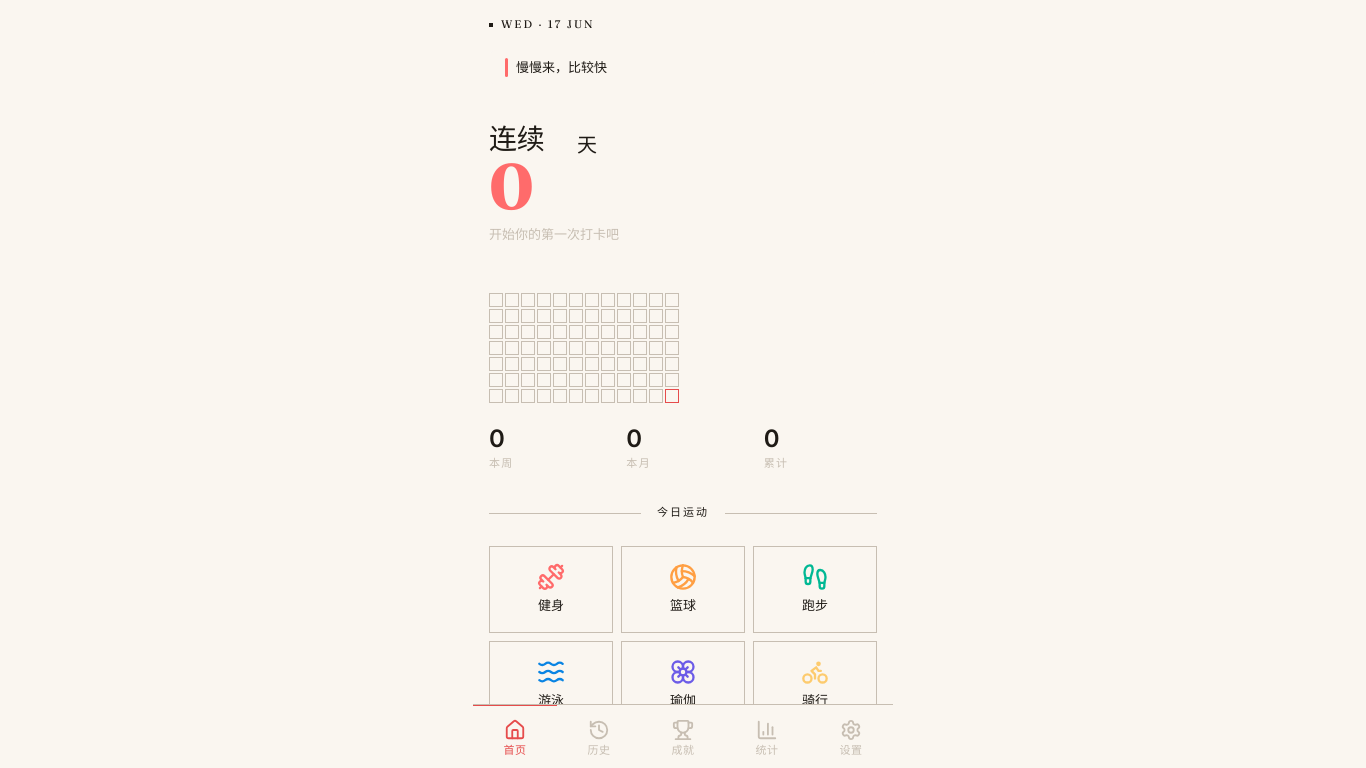
it: 完整打卡流程集成测试 › 打卡后首页数据即时更新（Streak+统计+最近记录同步刷新）
Expected: the text "开始你的第一次打卡吧" is shown, [489,224,619,245]
Step 1. Click the button "健身" → coordinates (551, 589), box [489,546,613,633]
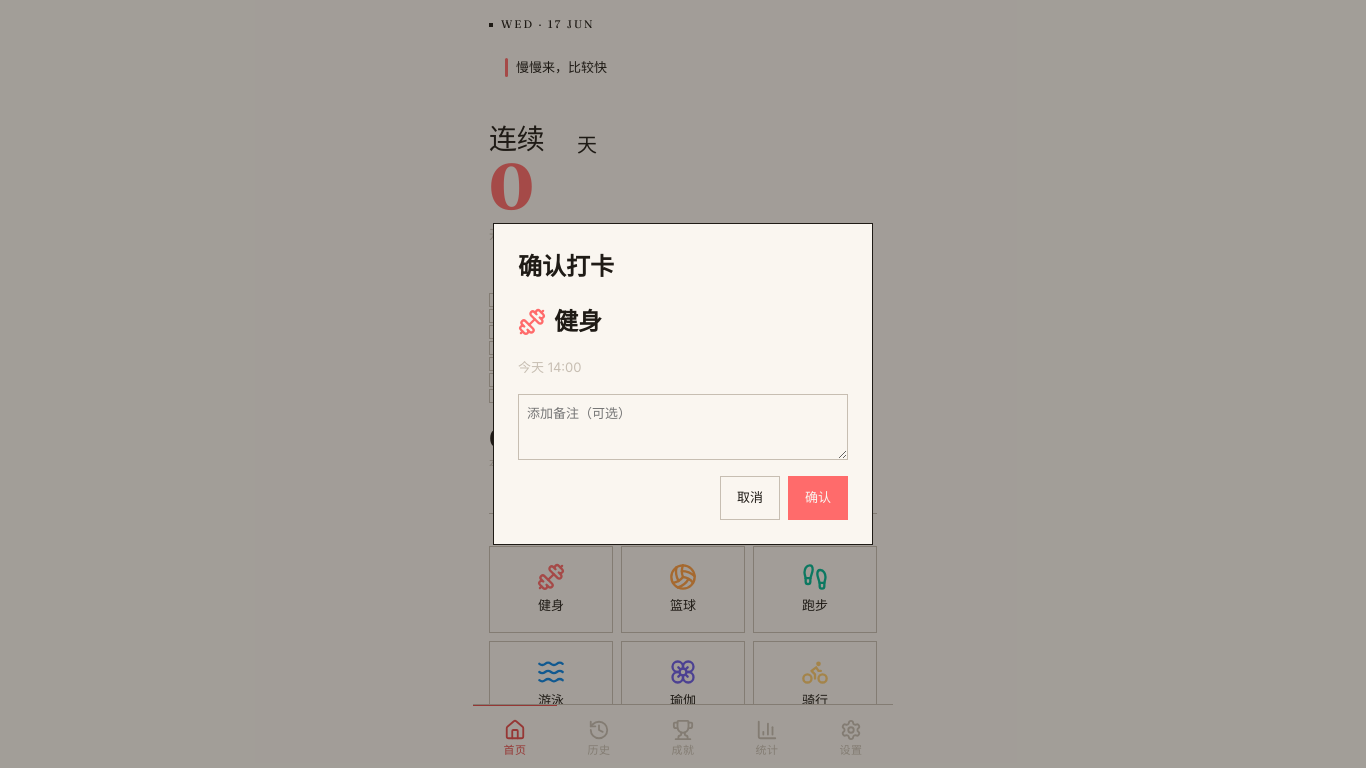
Step 2. Click the button "确认" → coordinates (818, 498), box [788,476,848,520]
(page scrolled)
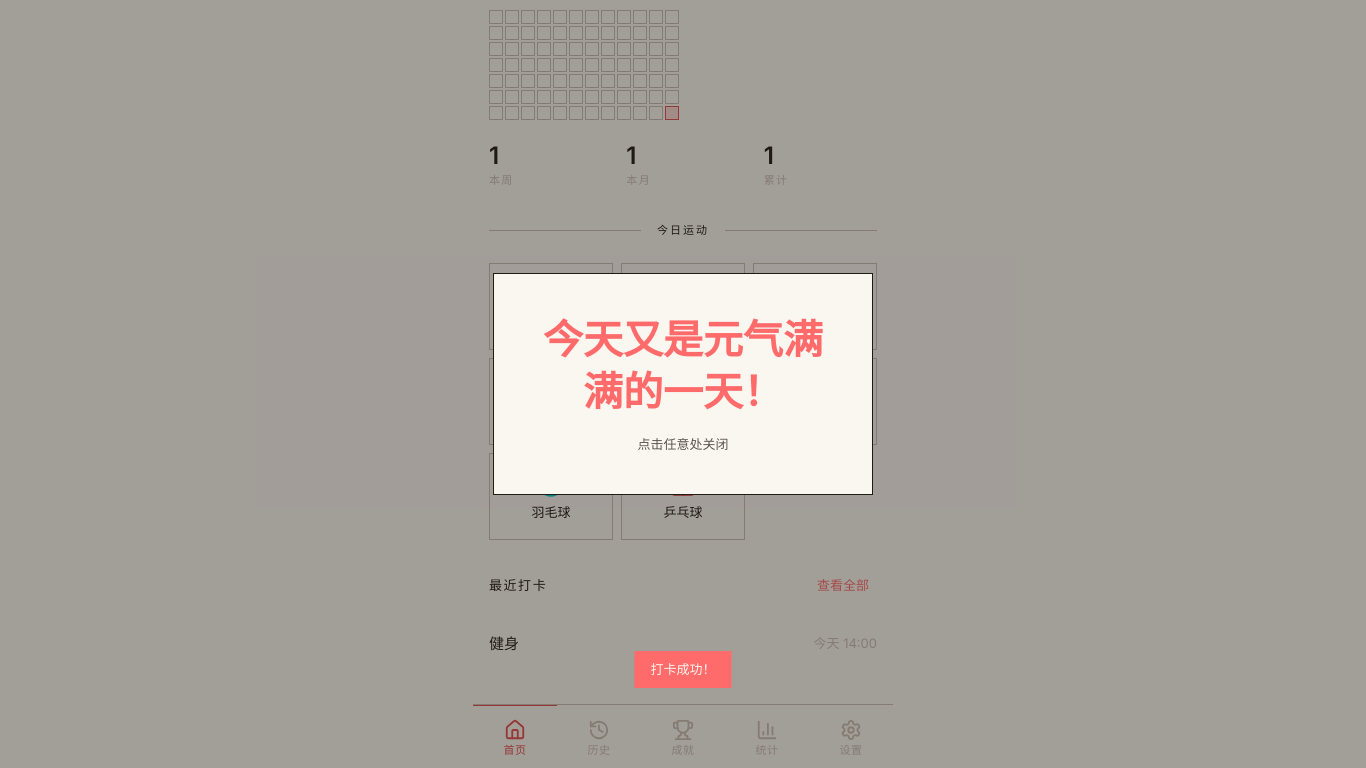
Expected: the text "1" is shown, [764,144,774,168]
Expected: the text "健身" is shown, [489,632,519,656]
Expected: the text "打卡成功！" is shown, [634,651,732,688]
